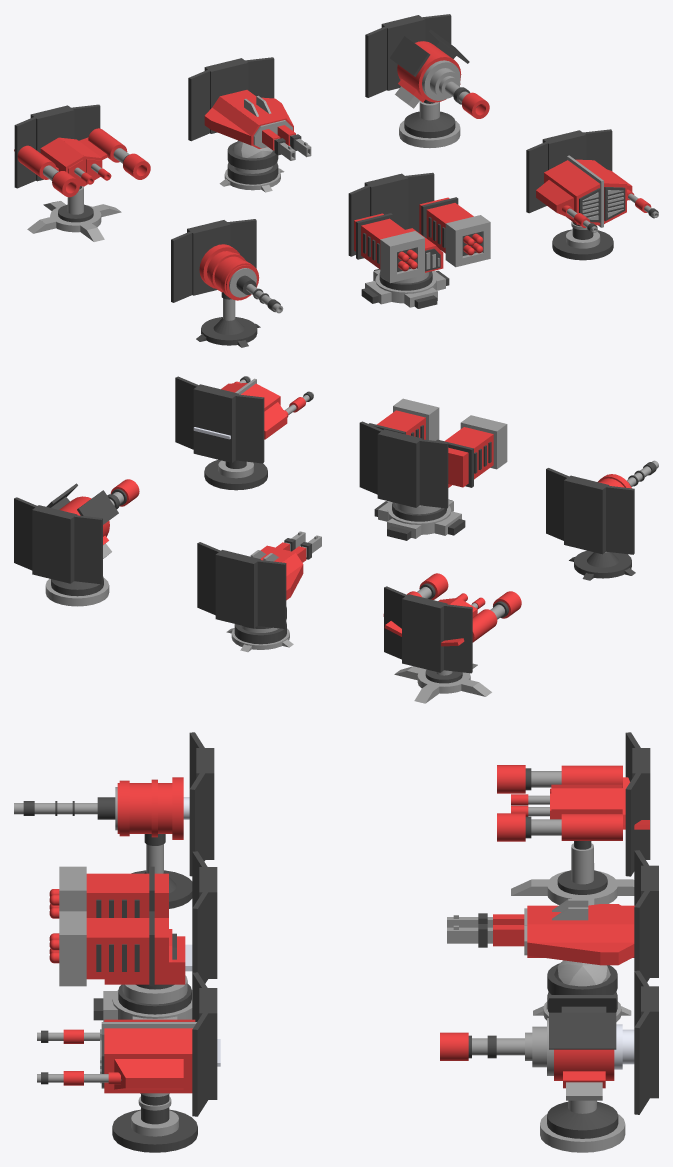
3 views of the same model, one above another, from view 1: azimuth 30°, elevation 25°; view 2: azimuth 150°, elevation 25°; view 3: azimuth 270°, elevation 25° (orthographic). The views are drawn at different scales.
Parts seen in each view (by area): view 1: mergedBlocks; view 2: mergedBlocks; view 3: mergedBlocks.
Part boxes in pixels (x1,y1,x2,y2): mergedBlocks: (14,14,658,347); mergedBlocks: (14,376,658,703); mergedBlocks: (14,732,658,1152).
Bounding box in the file's own units: 49.95 × 10.4 × 45.26.
